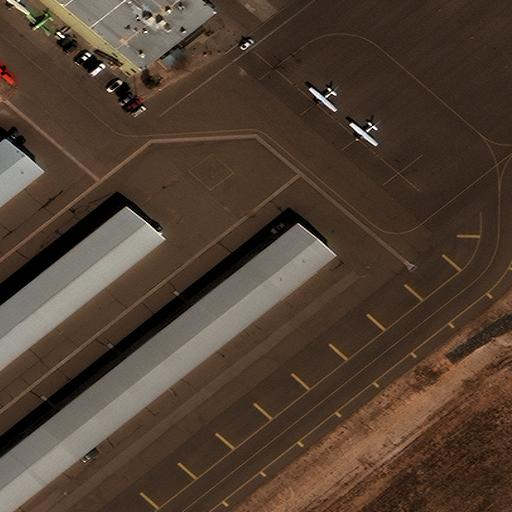Small Civil Transport: (348, 119, 380, 146), (309, 85, 339, 113), (25, 15, 50, 37), (2, 0, 28, 16), (0, 63, 15, 82)
